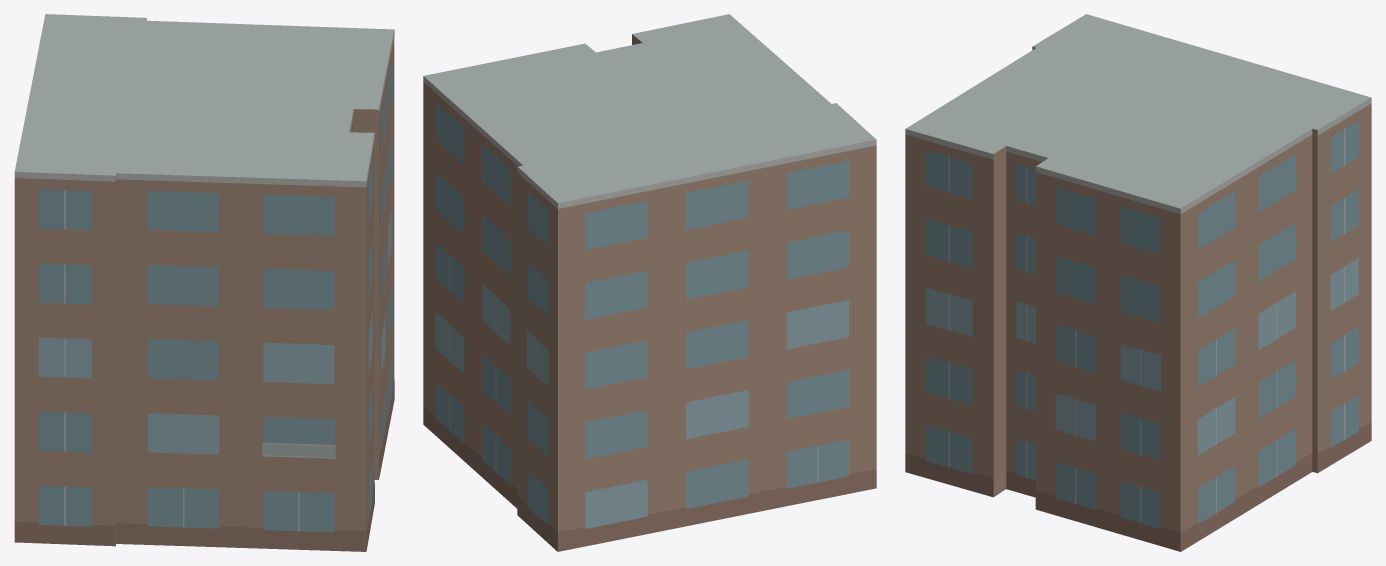
The model's file is survey-upis-32864723.glb.
The picture shows the model from 3 angles, left to right: view 1: azimuth 30°, elevation 25°; view 2: azimuth 150°, elevation 25°; view 3: azimuth 270°, elevation 25°; orthographic projection. The views are drawn at different scales.
Visible parts, largest first — view 1: survey-upis-32864723.tmp; view 2: survey-upis-32864723.tmp; view 3: survey-upis-32864723.tmp.
Boxes of the visible parts, <box> form: survey-upis-32864723.tmp: <box>14,14,394,551</box>; survey-upis-32864723.tmp: <box>423,14,876,551</box>; survey-upis-32864723.tmp: <box>905,14,1371,551</box>.
Size of the model in its own units: 18.02 by 14.8 by 18.23.
